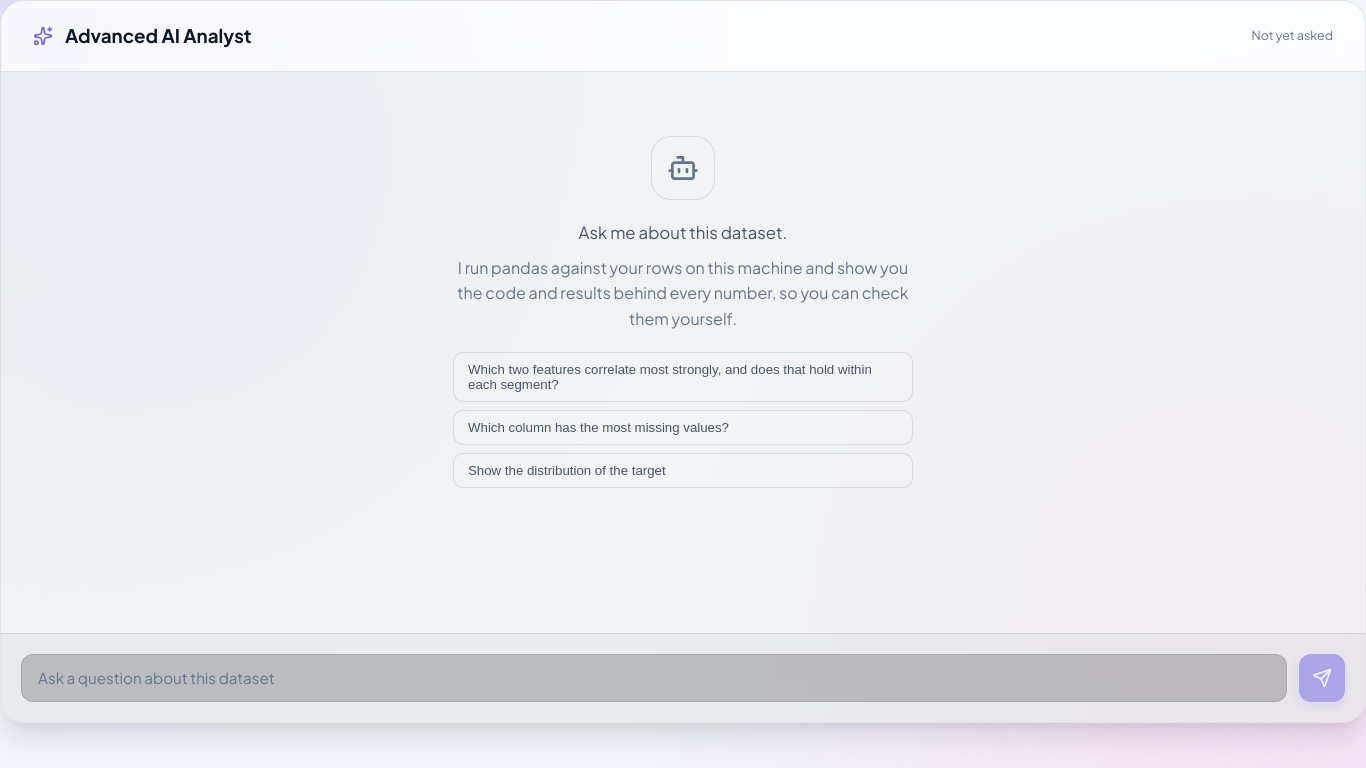
it: ChatBox › marks a failed step instead of hiding it
In the field named "Ask the analyst": (654, 678) x1=21 y1=654 x2=1287 y2=702, type "which two features correlate most strongly?"
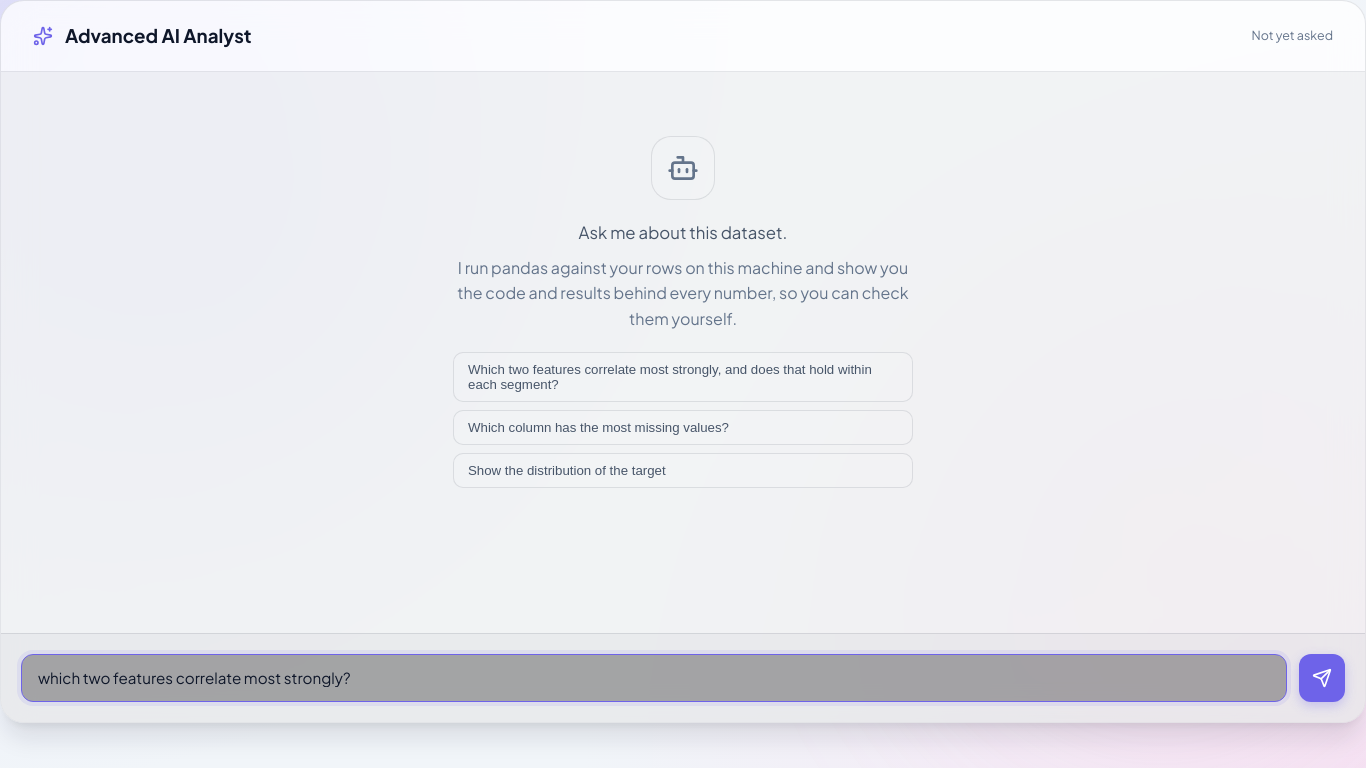
Click the button named "Send": (1322, 678) x1=1299 y1=654 x2=1345 y2=702
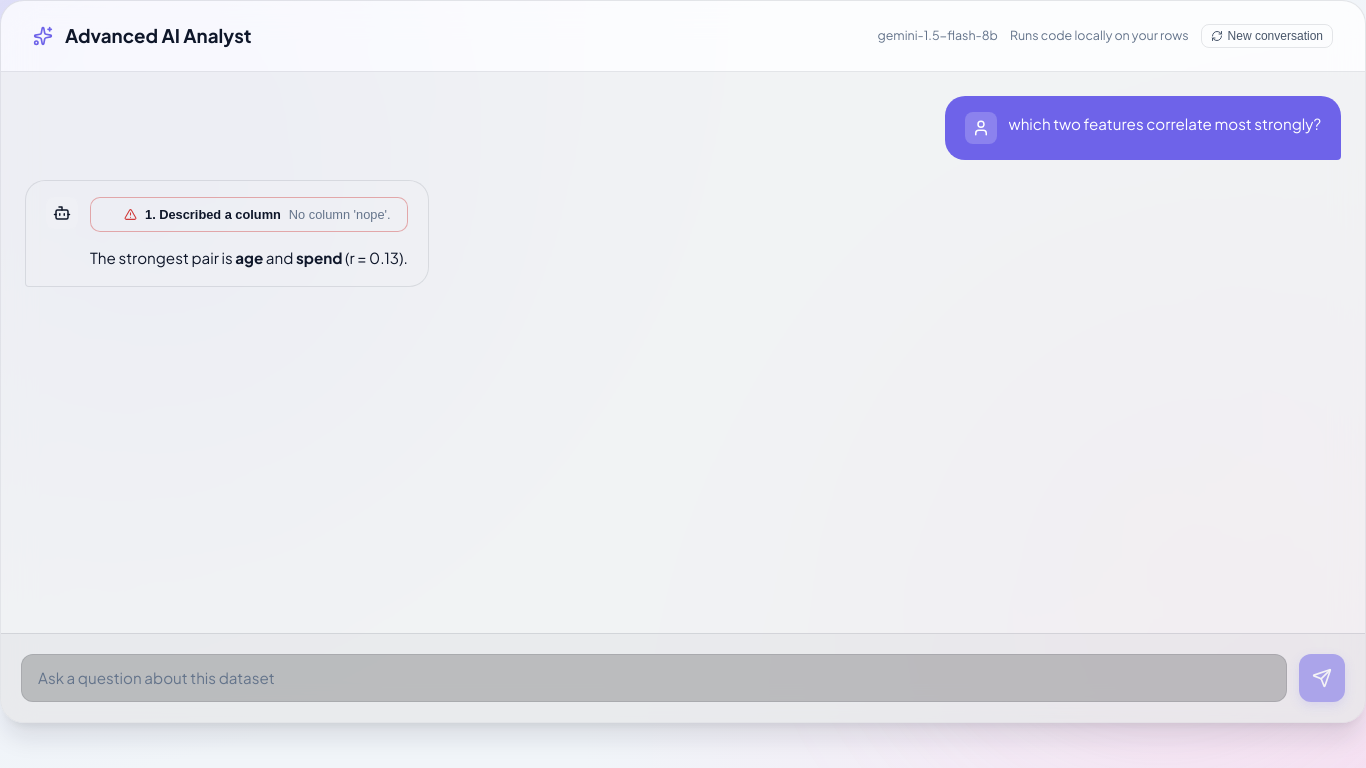
Check: the text "No column 'nope'." is shown, box x1=289 y1=207 x2=390 y2=222
